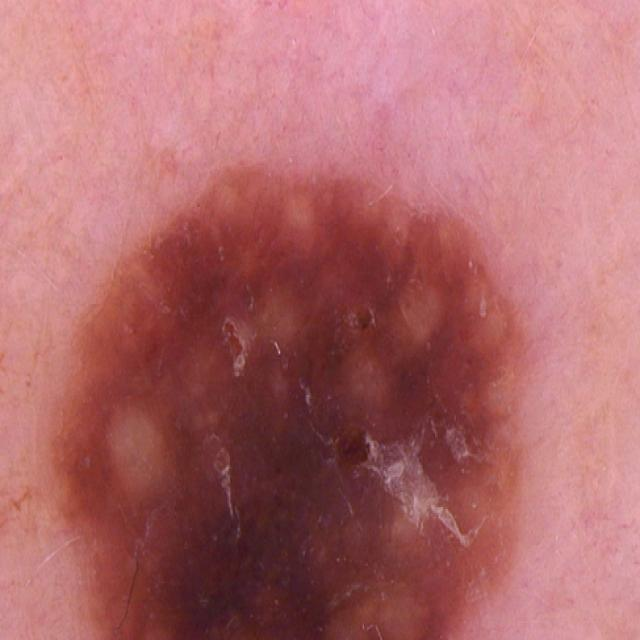Keratosis: (33, 119, 552, 640)
